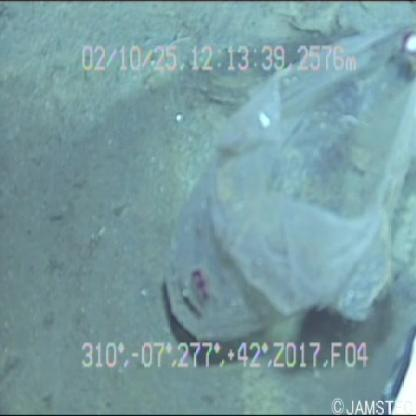Rác: (133, 8, 416, 373)
